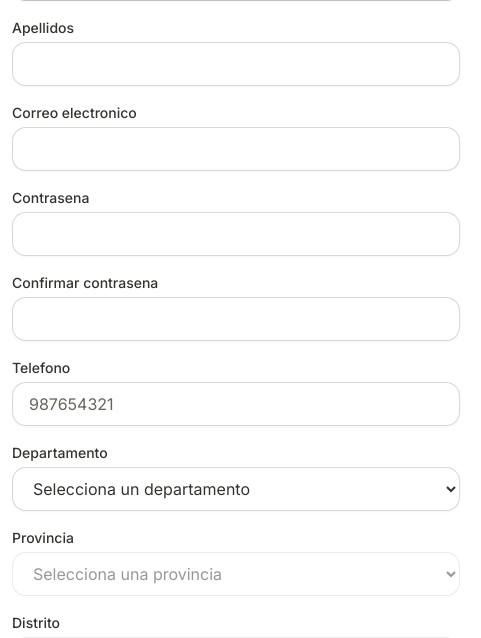
RegisterForm › muestra error cuando las contrasenas no coinciden
In the password field labelled "Contrasena": (236, 234) [12,212,460,256], type "ClaveSegura@123"
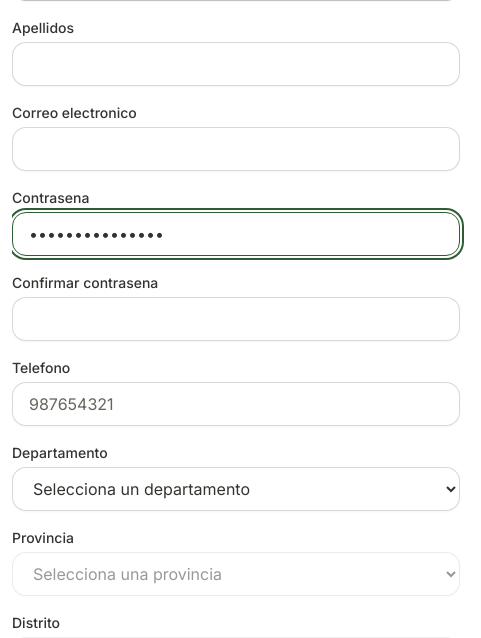
In the password field labelled "Confirmar contrasena": (236, 319) [12,297,460,341], type "OtraClave@456"
(page scrolled)
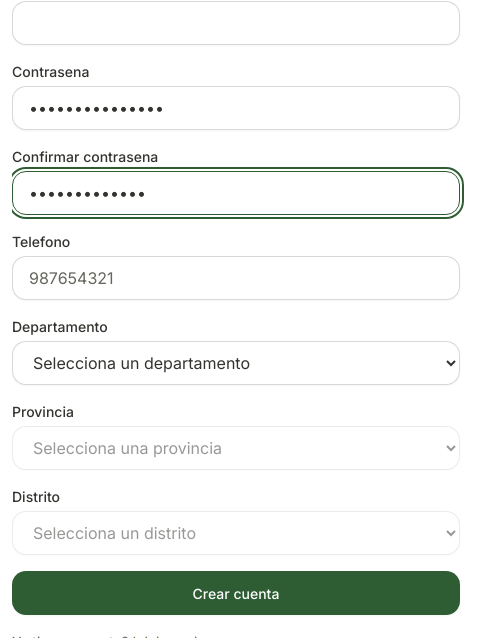
Click the button "Crear cuenta": click(236, 593) [12,571,460,615]
(page scrolled)
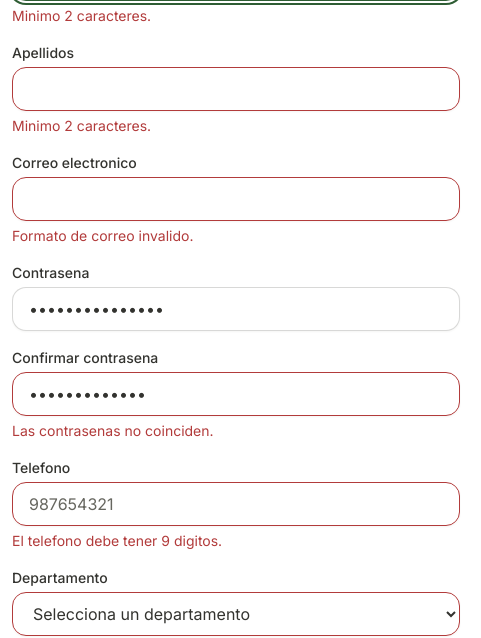
Check: the text "Las contrasenas no coinciden." is shown, box [12,422,214,439]
